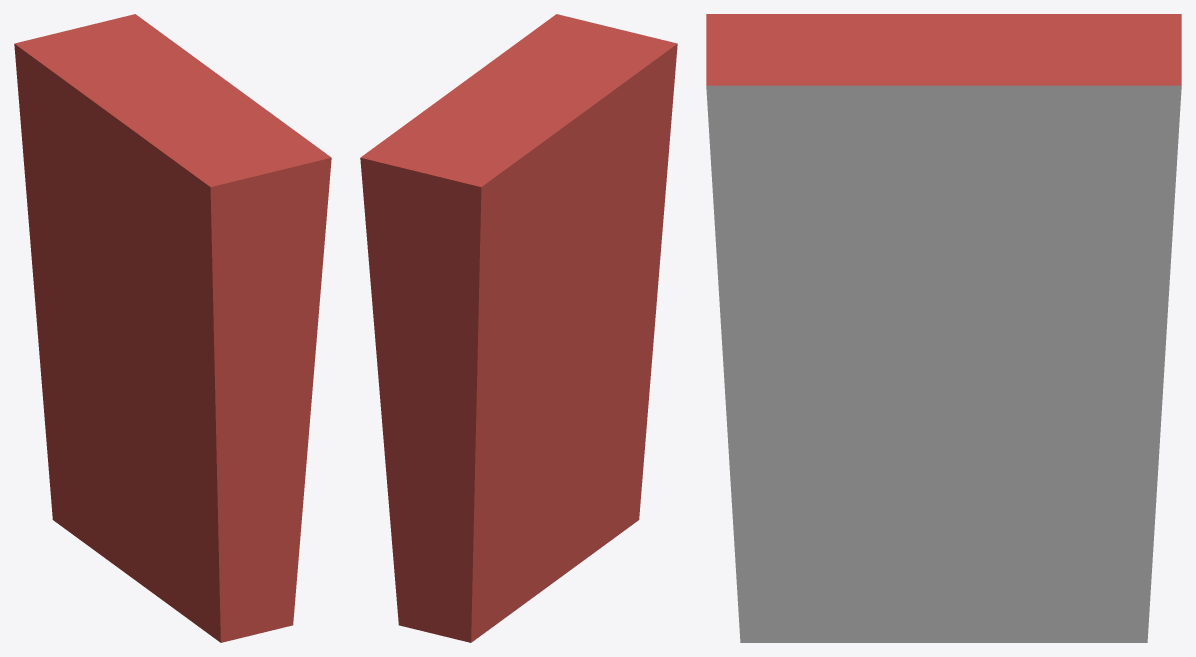
The model's file is monolith5.fbx.
3 renders of one model, left to right at view 1: azimuth 30°, elevation 25°; view 2: azimuth 150°, elevation 25°; view 3: azimuth 270°, elevation 25°, orthographic. The views are drawn at different scales.
Parts seen in each view (by area): view 1: Cube; view 2: Cube; view 3: Cube.
Part boxes in pixels (x1,y1,x2,y2): Cube: [14, 14, 331, 642]; Cube: [360, 14, 677, 642]; Cube: [706, 14, 1181, 642].
Bounding box in the file's own units: 0.5342 × 1.99 × 1.5.
